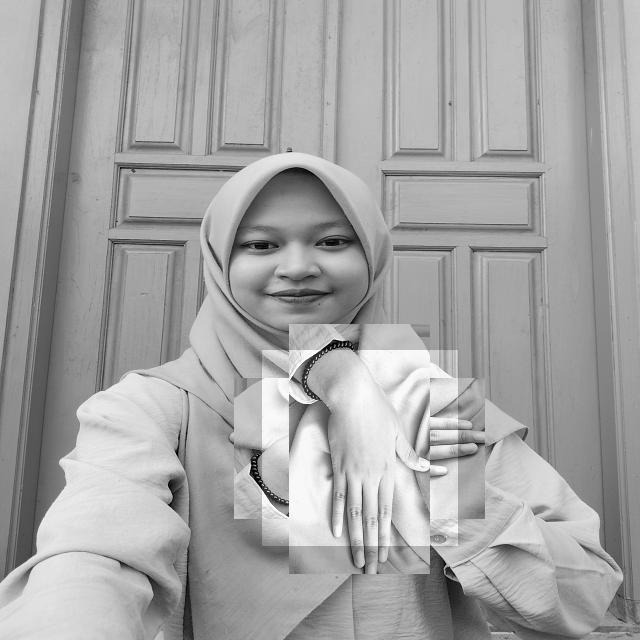tolong: (262, 350, 458, 546)
